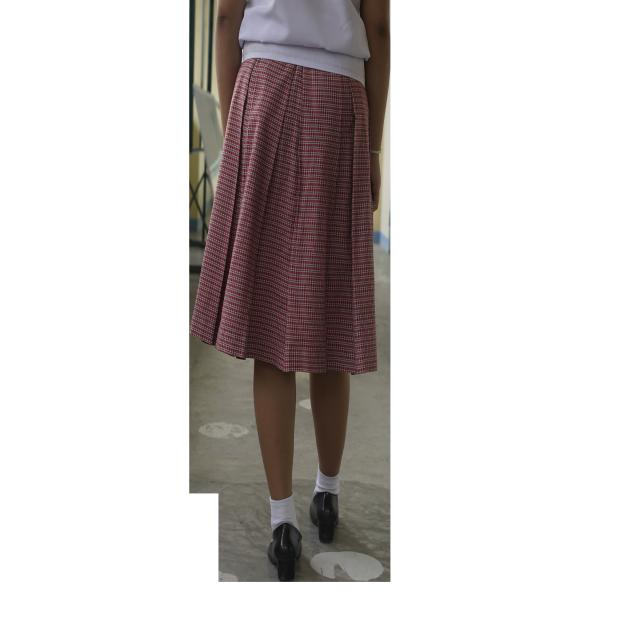shoes: (267, 522, 302, 581), (310, 492, 339, 542)
skirt: (190, 59, 377, 374)
